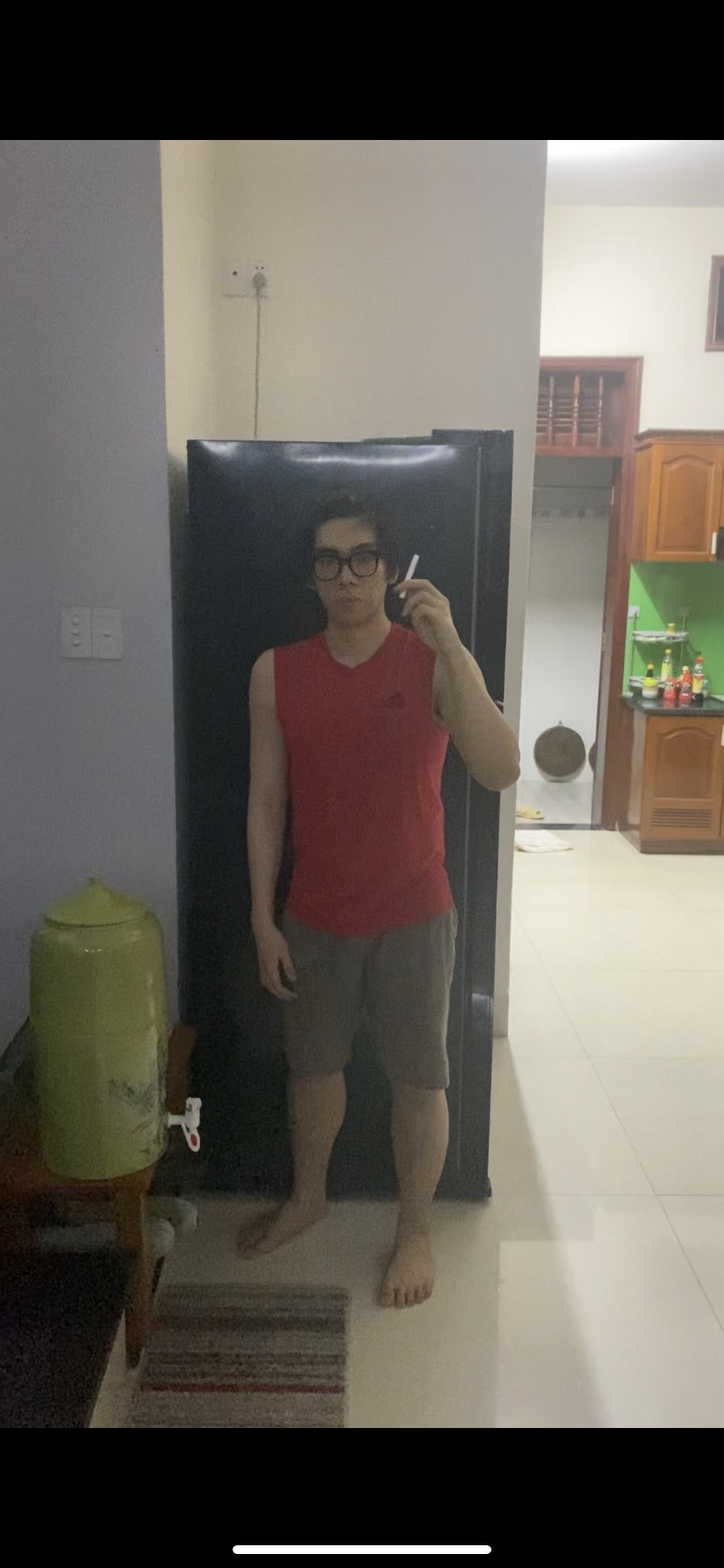cigarette: (399, 550, 423, 580)
person: (240, 473, 519, 1344)
